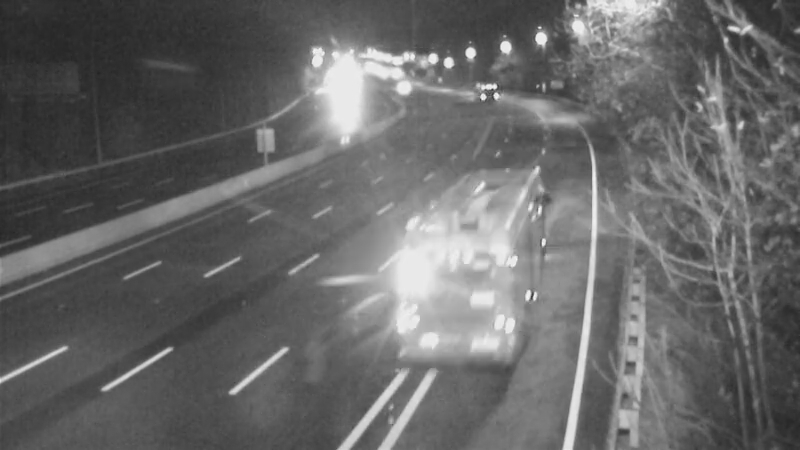vehicle: (457, 180, 537, 260), (376, 60, 426, 110), (454, 66, 504, 116), (316, 78, 366, 128)
